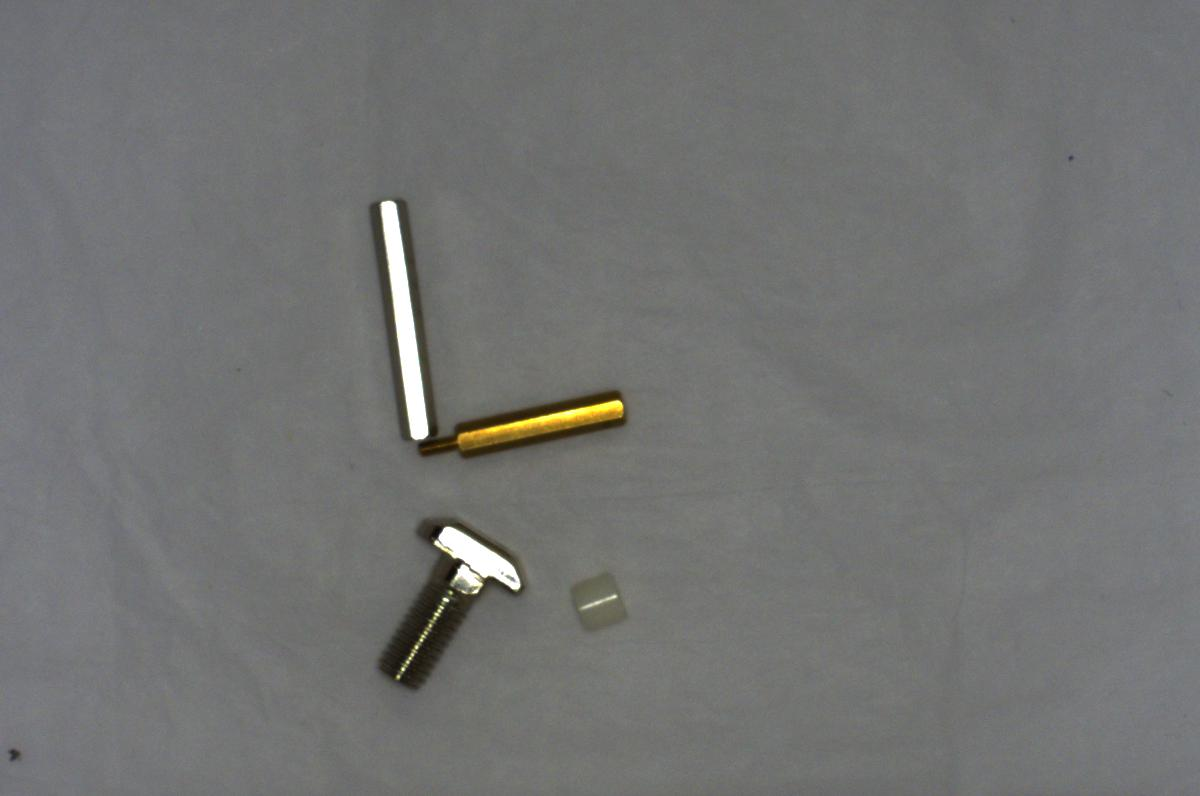Double hexagonal column: (365, 188, 435, 449)
Hexagon pillar: (417, 383, 639, 469)
Plastic cushion pillar: (561, 565, 635, 638)
T-shaped screw: (374, 507, 530, 690)
